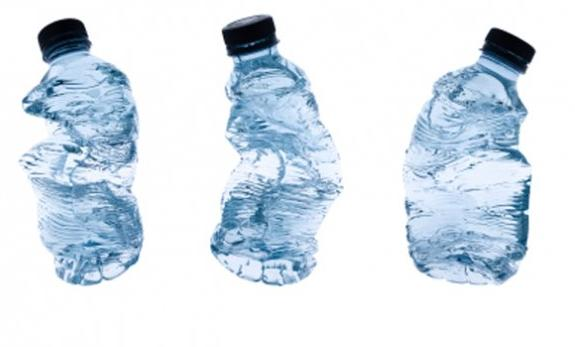Plastic: (398, 1, 542, 297), (206, 9, 346, 301), (18, 5, 144, 290)
